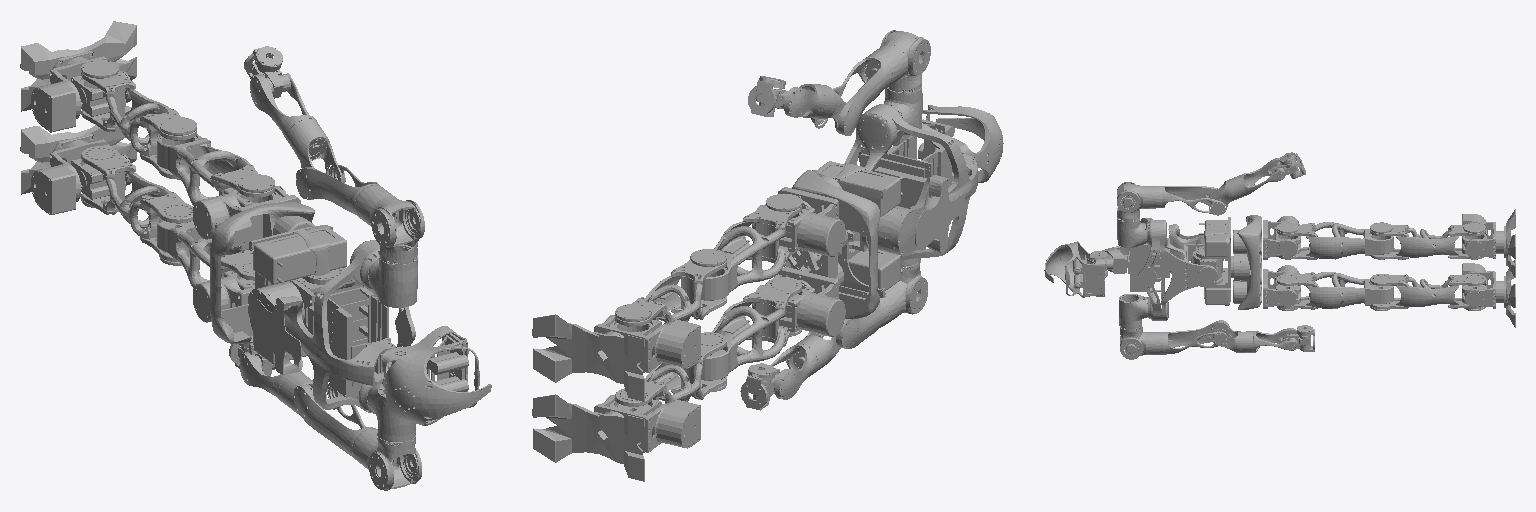
--- Facts derived from the render (not from the file) ---
3 views of the same robot in one strip: view 1: azimuth 30°, elevation 25°; view 2: azimuth 150°, elevation 25°; view 3: azimuth 270°, elevation 25° (orthographic).
Model FullBody_Simplified with 37 links and 36 joints (33 revolute, 3 fixed), rooted at L_Pelvisv15_1, posed all joints at 0.
Visible links, largest first — view 1: U_Body_1v21_1, U_Neck_2_simv5_1, L_Pelvisv15_1, LL_Knee_1v4_1, LR_Knee_1v6_1, U_Waist_2v8_1, LL_Hip_3v5_1, LL_Footv1_1, LR_Hip_3v5_1, LR_Ankle_2v3_1, LL_Ankle_2v7_1, LR_Footv2_2 (+18 smaller); view 2: U_Body_1v21_1, LR_Footv2_2, LL_Footv1_1, LL_Hip_3v5_1, LR_Hip_3v5_1, L_Pelvisv15_1, LL_Knee_1v4_1, U_Waist_2v8_1, U_Neck_2_simv5_1, LR_Knee_1v6_1, LL_Ankle_2v7_1, LR_Ankle_2v3_1 (+17 smaller); view 3: U_Body_1v21_1, LL_Hip_3v5_1, LR_Hip_3v5_1, L_Pelvisv15_1, LL_Knee_1v4_1, LR_Knee_1v6_1, U_Neck_2_simv5_1, U_Waist_2v8_1, UR_Arm_1v2_1, UL_Arm_1v1_1, LR_Hip_1v2_1, LL_Hip_1v5_1 (+14 smaller).
Link boxes in pixels (x1,y1,x2,y2): U_Body_1v21_1: (248, 240, 415, 413); U_Neck_2_simv5_1: (383, 326, 491, 425); L_Pelvisv15_1: (210, 202, 314, 343); LL_Knee_1v4_1: (81, 60, 196, 179); LR_Knee_1v6_1: (81, 146, 192, 265); U_Waist_2v8_1: (249, 225, 346, 363); LL_Hip_3v5_1: (157, 134, 274, 205); LL_Footv1_1: (20, 21, 136, 111); LR_Hip_3v5_1: (157, 217, 254, 288); LR_Ankle_2v3_1: (31, 139, 131, 214); LL_Ankle_2v7_1: (31, 56, 131, 132); LR_Footv2_2: (20, 106, 136, 194); U_Body_1v21_1: (844, 104, 977, 260); LR_Footv2_2: (532, 394, 644, 481); LL_Footv1_1: (532, 314, 644, 401); LL_Hip_3v5_1: (701, 194, 801, 300); LR_Hip_3v5_1: (701, 277, 801, 380); L_Pelvisv15_1: (786, 170, 879, 318); LL_Knee_1v4_1: (615, 249, 726, 362); U_Waist_2v8_1: (812, 161, 902, 297); U_Neck_2_simv5_1: (893, 105, 1003, 182); LR_Knee_1v6_1: (615, 332, 726, 442); LL_Ankle_2v7_1: (594, 315, 700, 372); LR_Ankle_2v3_1: (594, 395, 700, 452); U_Body_1v21_1: (1102, 218, 1223, 320); LL_Hip_3v5_1: (1277, 222, 1393, 259); LR_Hip_3v5_1: (1277, 272, 1393, 310); L_Pelvisv15_1: (1231, 215, 1261, 309); LL_Knee_1v4_1: (1370, 222, 1485, 259); LR_Knee_1v6_1: (1370, 274, 1485, 310); U_Neck_2_simv5_1: (1044, 241, 1107, 297); U_Waist_2v8_1: (1196, 217, 1230, 305); UR_Arm_1v2_1: (1165, 320, 1229, 354); UL_Arm_1v1_1: (1162, 186, 1224, 214); LR_Hip_1v2_1: (1263, 265, 1299, 308); LL_Hip_1v5_1: (1263, 216, 1299, 259).
Bounding box of the posed robot: 0.368 × 1.77 × 0.8383 m (x, y, z).
Meshes: 37 distinct files referenced, 36 mesh visuals loaded (36 binary STL); not drawn: 1 (reference not matched to a file when rendering).

URDF robot description (FullBody_Simplified):
<?xml version="1.0" ?>
<robot name="FullBody_Simplified">

<material name="silver">
  <color rgba="0.700 0.700 0.700 1.000"/>
</material>

<link name="L_Pelvisv15_1">
  <inertial>
    <origin xyz="0.07850633428100248 0.7503938158233621 0.18713690989372062" rpy="0 0 0"/>
    <mass value="10.036811625847252"/>
    <inertia ixx="1.826857" iyy="0.260223" izz="1.689356" ixy="-0.163165" iyz="-0.402271" ixz="-0.042207"/>
  </inertial>
  <visual>
    <origin xyz="0 0 0" rpy="0 0 0"/>
    <geometry>
      <mesh filename="package://meshes/L_Pelvisv15_1.stl" scale="0.001 0.001 0.001"/>
    </geometry>
    <material name="silver"/>
  </visual>
  <collision>
    <origin xyz="0 0 0" rpy="0 0 0"/>
    <geometry>
      <mesh filename="package://meshes/L_Pelvisv15_1.stl" scale="0.001 0.001 0.001"/>
    </geometry>
  </collision>
</link>

<link name="U_Waist_2v8_1">
  <inertial>
    <origin xyz="-0.0337346162481096 -0.04639529711879098 -0.0007679069985090381" rpy="0 0 0"/>
    <mass value="6.477105878848885"/>
    <inertia ixx="0.066569" iyy="0.080229" izz="0.025041" ixy="-0.000133" iyz="-0.000325" ixz="0.000159"/>
  </inertial>
  <visual>
    <origin xyz="-0.11000000000058976 -0.6805999999999996 -0.18730049999999515" rpy="0 0 0"/>
    <geometry>
      <mesh filename="package://meshes/U_Waist_2v8_1.stl" scale="0.001 0.001 0.001"/>
    </geometry>
    <material name="silver"/>
  </visual>
  <collision>
    <origin xyz="-0.11000000000058976 -0.6805999999999996 -0.18730049999999515" rpy="0 0 0"/>
    <geometry>
      <mesh filename="package://meshes/U_Waist_2v8_1.stl" scale="0.001 0.001 0.001"/>
    </geometry>
  </collision>
</link>

<link name="U_Waist_1v3_1">
  <inertial>
    <origin xyz="-0.0002659409585832606 -4.125846770230979e-06 -0.04482890885206928" rpy="0 0 0"/>
    <mass value="2.69908052620212"/>
    <inertia ixx="0.471513" iyy="0.067497" izz="0.441062" ixy="-0.077278" iyz="-0.138359" ixz="-0.025502"/>
  </inertial>
  <visual>
    <origin xyz="-0.11000000000058888 -0.5955999999999999 -0.24130049999999575" rpy="0 0 0"/>
    <geometry>
      <mesh filename="package://meshes/U_Waist_1v3_1.stl" scale="0.001 0.001 0.001"/>
    </geometry>
    <material name="silver"/>
  </visual>
  <collision>
    <origin xyz="-0.11000000000058888 -0.5955999999999999 -0.24130049999999575" rpy="0 0 0"/>
    <geometry>
      <mesh filename="package://meshes/U_Waist_1v3_1.stl" scale="0.001 0.001 0.001"/>
    </geometry>
  </collision>
</link>

<link name="U_Body_1v21_1">
  <inertial>
    <origin xyz="0.015155259714987449 -0.15771637872996064 -0.0012004300231659437" rpy="0 0 0"/>
    <mass value="13.434139763717132"/>
    <inertia ixx="1.802919" iyy="0.465399" izz="1.581973" ixy="-0.128737" iyz="-0.539786" ixz="-0.071474"/>
  </inertial>
  <visual>
    <origin xyz="-0.04400000000058896 -0.5955999999999999 -0.18730049999999573" rpy="0 0 0"/>
    <geometry>
      <mesh filename="package://meshes/U_Body_1v21_1.stl" scale="0.001 0.001 0.001"/>
    </geometry>
    <material name="silver"/>
  </visual>
  <collision>
    <origin xyz="-0.04400000000058896 -0.5955999999999999 -0.18730049999999573" rpy="0 0 0"/>
    <geometry>
      <mesh filename="package://meshes/U_Body_1v21_1.stl" scale="0.001 0.001 0.001"/>
    </geometry>
  </collision>
</link>

<link name="UL_Shoulder_1v3_1">
  <inertial>
    <origin xyz="-4.8748773014778424e-05 -0.0600535587620909 0.003562519143427867" rpy="0 0 0"/>
    <mass value="0.4784016701329476"/>
    <inertia ixx="0.239649" iyy="0.153624" izz="0.127989" ixy="-0.046121" iyz="-0.118057" ixz="-0.051461"/>
  </inertial>
  <visual>
    <origin xyz="-0.13300000000094261 -0.36524750292855984 -0.3370001228884733" rpy="0 0 0"/>
    <geometry>
      <mesh filename="package://meshes/UL_Shoulder_1v3_1.stl" scale="0.001 0.001 0.001"/>
    </geometry>
    <material name="silver"/>
  </visual>
  <collision>
    <origin xyz="-0.13300000000094261 -0.36524750292855984 -0.3370001228884733" rpy="0 0 0"/>
    <geometry>
      <mesh filename="package://meshes/UL_Shoulder_1v3_1.stl" scale="0.001 0.001 0.001"/>
    </geometry>
  </collision>
</link>

<link name="UR_Shoulder_1v3_1">
  <inertial>
    <origin xyz="4.874877301425107e-05 -0.059877374991490095 -0.005815619207582948" rpy="0 0 0"/>
    <mass value="0.47840167013294754"/>
    <inertia ixx="0.112616" iyy="0.022449" izz="0.132188" ixy="-0.04705" iyz="-0.008306" ixz="-0.003513"/>
  </inertial>
  <visual>
    <origin xyz="-0.1330000000009486 -0.37103276923898365 -0.029054460971118613" rpy="0 0 0"/>
    <geometry>
      <mesh filename="package://meshes/UR_Shoulder_1v3_1.stl" scale="0.001 0.001 0.001"/>
    </geometry>
    <material name="silver"/>
  </visual>
  <collision>
    <origin xyz="-0.1330000000009486 -0.37103276923898365 -0.029054460971118613" rpy="0 0 0"/>
    <geometry>
      <mesh filename="package://meshes/UR_Shoulder_1v3_1.stl" scale="0.001 0.001 0.001"/>
    </geometry>
  </collision>
</link>

<link name="UR_Shoulder_2v2_1">
  <inertial>
    <origin xyz="-0.0011896266413215784 0.0010390104749413154 -0.05640801893102957" rpy="0 0 0"/>
    <mass value="0.23812084762668878"/>
    <inertia ixx="0.024179" iyy="0.006403" izz="0.026767" ixy="-0.009409" iyz="0.004487" ixz="0.001878"/>
  </inertial>
  <visual>
    <origin xyz="-0.13300000000094875 -0.3066847483187157 0.0062604396183596565" rpy="0 0 0"/>
    <geometry>
      <mesh filename="package://meshes/UR_Shoulder_2v2_1.stl" scale="0.001 0.001 0.001"/>
    </geometry>
    <material name="silver"/>
  </visual>
  <collision>
    <origin xyz="-0.13300000000094875 -0.3066847483187157 0.0062604396183596565" rpy="0 0 0"/>
    <geometry>
      <mesh filename="package://meshes/UR_Shoulder_2v2_1.stl" scale="0.001 0.001 0.001"/>
    </geometry>
  </collision>
</link>

<link name="UR_Shoulder_3v2_1">
  <inertial>
    <origin xyz="-0.03031024672003585 0.04859132145441042 0.001152922799551509" rpy="0 0 0"/>
    <mass value="0.56178745084814"/>
    <inertia ixx="0.331765" iyy="0.077312" izz="0.340575" ixy="-0.109828" iyz="0.097492" ixz="0.037023"/>
  </inertial>
  <visual>
    <origin xyz="-0.16590000000095106 -0.3088448315190362 0.12124015104853975" rpy="0 0 0"/>
    <geometry>
      <mesh filename="package://meshes/UR_Shoulder_3v2_1.stl" scale="0.001 0.001 0.001"/>
    </geometry>
    <material name="silver"/>
  </visual>
  <collision>
    <origin xyz="-0.16590000000095106 -0.3088448315190362 0.12124015104853975" rpy="0 0 0"/>
    <geometry>
      <mesh filename="package://meshes/UR_Shoulder_3v2_1.stl" scale="0.001 0.001 0.001"/>
    </geometry>
  </collision>
</link>

<link name="UR_Arm_1v2_1">
  <inertial>
    <origin xyz="-0.019862841377670776 0.11172176408902107 0.013973801200149766" rpy="0 0 0"/>
    <mass value="0.5789025929463171"/>
    <inertia ixx="0.006256" iyy="0.001146" izz="0.006561" ixy="-0.000114" iyz="-0.000148" ixz="0.000149"/>
  </inertial>
  <visual>
    <origin xyz="-0.13300000000095033 -0.4369222318164831 0.11883400619670591" rpy="0 0 0"/>
    <geometry>
      <mesh filename="package://meshes/UR_Arm_1v2_1.stl" scale="0.001 0.001 0.001"/>
    </geometry>
    <material name="silver"/>
  </visual>
  <collision>
    <origin xyz="-0.13300000000095033 -0.4369222318164831 0.11883400619670591" rpy="0 0 0"/>
    <geometry>
      <mesh filename="package://meshes/UR_Arm_1v2_1.stl" scale="0.001 0.001 0.001"/>
    </geometry>
  </collision>
</link>

<link name="UR_Arm_2v6_1">
  <inertial>
    <origin xyz="-0.03049076949479987 0.05201895481737917 -0.01669934810431163" rpy="0 0 0"/>
    <mass value="0.3152819939464439"/>
    <inertia ixx="0.800277" iyy="0.046391" izz="0.812801" ixy="-0.14939" iyz="0.112382" ixz="0.021291"/>
  </inertial>
  <visual>
    <origin xyz="-0.16400000000095022 -0.6432752540950658 0.08245159016238089" rpy="0 0 0"/>
    <geometry>
      <mesh filename="package://meshes/UR_Arm_2v6_1.stl" scale="0.001 0.001 0.001"/>
    </geometry>
    <material name="silver"/>
  </visual>
  <collision>
    <origin xyz="-0.16400000000095022 -0.6432752540950658 0.08245159016238089" rpy="0 0 0"/>
    <geometry>
      <mesh filename="package://meshes/UR_Arm_2v6_1.stl" scale="0.001 0.001 0.001"/>
    </geometry>
  </collision>
</link>

<link name="UR_Arm_3v3_1">
  <inertial>
    <origin xyz="-0.016384028005943727 0.07698230687582608 0.0015476984755121437" rpy="0 0 0"/>
    <mass value="0.40861586219416696"/>
    <inertia ixx="0.002693" iyy="0.000575" izz="0.002948" ixy="2.6e-05" iyz="0.000165" ixz="-4e-06"/>
  </inertial>
  <visual>
    <origin xyz="-0.1330000000009512 -0.7688636595975273 0.11259793991404056" rpy="0 0 0"/>
    <geometry>
      <mesh filename="package://meshes/UR_Arm_3v3_1.stl" scale="0.001 0.001 0.001"/>
    </geometry>
    <material name="silver"/>
  </visual>
  <collision>
    <origin xyz="-0.1330000000009512 -0.7688636595975273 0.11259793991404056" rpy="0 0 0"/>
    <geometry>
      <mesh filename="package://meshes/UR_Arm_3v3_1.stl" scale="0.001 0.001 0.001"/>
    </geometry>
  </collision>
</link>

<link name="UL_Shoulder_2v3_1">
  <inertial>
    <origin xyz="-0.0011896266413236878 -0.0010804099433366354 0.056407241174085576" rpy="0 0 0"/>
    <mass value="0.4701009156097212"/>
    <inertia ixx="0.0013" iyy="0.001461" izz="0.00077" ixy="-1e-06" iyz="1.3e-05" ixz="3.8e-05"/>
  </inertial>
  <visual>
    <origin xyz="-0.13300000000094164 -0.2996184587538408 -0.36987319029498056" rpy="0 0 0"/>
    <geometry>
      <mesh filename="package://meshes/UL_Shoulder_2v3_1.stl" scale="0.001 0.001 0.001"/>
    </geometry>
    <material name="silver"/>
  </visual>
  <collision>
    <origin xyz="-0.13300000000094164 -0.2996184587538408 -0.36987319029498056" rpy="0 0 0"/>
    <geometry>
      <mesh filename="package://meshes/UL_Shoulder_2v3_1.stl" scale="0.001 0.001 0.001"/>
    </geometry>
  </collision>
</link>

<link name="UL_Shoulder_3v3_1">
  <inertial>
    <origin xyz="-0.034710246720033366 0.04859132145440942 0.0011529227995509261" rpy="0 0 0"/>
    <mass value="1.6983659250719216"/>
    <inertia ixx="0.413132" iyy="0.292098" izz="0.165365" ixy="-0.05299" iyz="-0.191232" ixz="-0.074887"/>
  </inertial>
  <visual>
    <origin xyz="-0.17030000000093926 -0.2974583755535203 -0.4848529017251625" rpy="0 0 0"/>
    <geometry>
      <mesh filename="package://meshes/UL_Shoulder_3v3_1.stl" scale="0.001 0.001 0.001"/>
    </geometry>
    <material name="silver"/>
  </visual>
  <collision>
    <origin xyz="-0.17030000000093926 -0.2974583755535203 -0.4848529017251625" rpy="0 0 0"/>
    <geometry>
      <mesh filename="package://meshes/UL_Shoulder_3v3_1.stl" scale="0.001 0.001 0.001"/>
    </geometry>
  </collision>
</link>

<link name="UR_Wrist_1v6_1">
  <inertial>
    <origin xyz="-0.038258503492373336 0.02317003530234485 0.00521035822356096" rpy="0 0 0"/>
    <mass value="0.4704162631935058"/>
    <inertia ixx="0.277937" iyy="0.009314" izz="0.279908" ixy="-0.038558" iyz="0.03049" ixz="0.004301"/>
  </inertial>
  <visual>
    <origin xyz="-0.16999999947643094 -0.9126357923807621 0.10976992131012552" rpy="0 0 0"/>
    <geometry>
      <mesh filename="package://meshes/UR_Wrist_1v6_1.stl" scale="0.001 0.001 0.001"/>
    </geometry>
    <material name="silver"/>
  </visual>
  <collision>
    <origin xyz="-0.16999999947643094 -0.9126357923807621 0.10976992131012552" rpy="0 0 0"/>
    <geometry>
      <mesh filename="package://meshes/UR_Wrist_1v6_1.stl" scale="0.001 0.001 0.001"/>
    </geometry>
  </collision>
</link>

<link name="UR_Wrist_2v3_1">
  <inertial>
    <origin xyz="-8.812031659921615e-11 0.020573537806204523 0.03199453722915953" rpy="0 0 0"/>
    <mass value="0.12362354927744214"/>
    <inertia ixx="0.000144" iyy="0.00014" izz="8.2e-05" ixy="-0.0" iyz="7e-06" ixz="0.0"/>
  </inertial>
  <visual>
    <origin xyz="-0.13299999947642951 -0.961216512639082 0.13882011268957636" rpy="0 0 0"/>
    <geometry>
      <mesh filename="package://meshes/UR_Wrist_2v3_1.stl" scale="0.001 0.001 0.001"/>
    </geometry>
    <material name="silver"/>
  </visual>
  <collision>
    <origin xyz="-0.13299999947642951 -0.961216512639082 0.13882011268957636" rpy="0 0 0"/>
    <geometry>
      <mesh filename="package://meshes/UR_Wrist_2v3_1.stl" scale="0.001 0.001 0.001"/>
    </geometry>
  </collision>
</link>

<link name="UR_Hand_1v3_1">
  <inertial>
    <origin xyz="0.02002554203355407 0.06405861272419533 0.041990729835441554" rpy="0 0 0"/>
    <mass value="0.23815245620329029"/>
    <inertia ixx="0.089352" iyy="0.002416" izz="0.089909" ixy="-0.011173" iyz="0.006815" ixz="0.000846"/>
  </inertial>
  <visual>
    <origin xyz="-0.11532232994676704 -0.9984713362603825 0.12576257365892807" rpy="0 0 0"/>
    <geometry>
      <mesh filename="package://meshes/UR_Hand_1v3_1.stl" scale="0.001 0.001 0.001"/>
    </geometry>
    <material name="silver"/>
  </visual>
  <collision>
    <origin xyz="-0.11532232994676704 -0.9984713362603825 0.12576257365892807" rpy="0 0 0"/>
    <geometry>
      <mesh filename="package://meshes/UR_Hand_1v3_1.stl" scale="0.001 0.001 0.001"/>
    </geometry>
  </collision>
</link>

<link name="U_Neck_1v4_1">
  <inertial>
    <origin xyz="-0.0003721026714717107 -0.02571683694961044 -0.002658220059857608" rpy="0 0 0"/>
    <mass value="0.28464806125456393"/>
    <inertia ixx="0.008296" iyy="0.004625" izz="0.00509" ixy="-0.001668" iyz="-0.004023" ixz="-0.001555"/>
  </inertial>
  <visual>
    <origin xyz="-0.07400000000094507 -0.21616695228040253 -0.18017222543893752" rpy="0 0 0"/>
    <geometry>
      <mesh filename="package://meshes/U_Neck_1v4_1.stl" scale="0.001 0.001 0.001"/>
    </geometry>
    <material name="silver"/>
  </visual>
  <collision>
    <origin xyz="-0.07400000000094507 -0.21616695228040253 -0.18017222543893752" rpy="0 0 0"/>
    <geometry>
      <mesh filename="package://meshes/U_Neck_1v4_1.stl" scale="0.001 0.001 0.001"/>
    </geometry>
  </collision>
</link>

<link name="LL_Hip_1v5_1">
  <inertial>
    <origin xyz="-0.06917669367320745 0.06802628174919578 1.0686348050903405e-06" rpy="0 0 0"/>
    <mass value="2.679330855492574"/>
    <inertia ixx="0.006034" iyy="0.008699" izz="0.01107" ixy="0.002414" iyz="-0.0" ixz="0.0"/>
  </inertial>
  <visual>
    <origin xyz="-0.11000000000059164 -0.8109000000000003 -0.28980049999999435" rpy="0 0 0"/>
    <geometry>
      <mesh filename="package://meshes/LL_Hip_1v5_1.stl" scale="0.001 0.001 0.001"/>
    </geometry>
    <material name="silver"/>
  </visual>
  <collision>
    <origin xyz="-0.11000000000059164 -0.8109000000000003 -0.28980049999999435" rpy="0 0 0"/>
    <geometry>
      <mesh filename="package://meshes/LL_Hip_1v5_1.stl" scale="0.001 0.001 0.001"/>
    </geometry>
  </collision>
</link>

<link name="LL_Hip_2v4_1">
  <inertial>
    <origin xyz="0.049388121206438505 -6.441357592079644e-05 -0.0024544959884552076" rpy="0 0 0"/>
    <mass value="2.6278046422077392"/>
    <inertia ixx="0.003176" iyy="0.003391" izz="0.003653" ixy="4e-06" iyz="5e-06" ixz="1.7e-05"/>
  </inertial>
  <visual>
    <origin xyz="-0.05800000000059206 -0.8959000000000006 -0.28980049999999424" rpy="0 0 0"/>
    <geometry>
      <mesh filename="package://meshes/LL_Hip_2v4_1.stl" scale="0.001 0.001 0.001"/>
    </geometry>
    <material name="silver"/>
  </visual>
  <collision>
    <origin xyz="-0.05800000000059206 -0.8959000000000006 -0.28980049999999424" rpy="0 0 0"/>
    <geometry>
      <mesh filename="package://meshes/LL_Hip_2v4_1.stl" scale="0.001 0.001 0.001"/>
    </geometry>
  </collision>
</link>

<link name="LL_Hip_3v5_1">
  <inertial>
    <origin xyz="-0.0002922148222426202 0.24721488423935345 0.04472195154747177" rpy="0 0 0"/>
    <mass value="4.748394171510706"/>
    <inertia ixx="1.327843" iyy="0.096522" izz="1.263205" ixy="-0.113283" iyz="-0.296535" ixz="-0.02857"/>
  </inertial>
  <visual>
    <origin xyz="-0.11000000000059178 -0.8959 -0.24580049999999382" rpy="0 0 0"/>
    <geometry>
      <mesh filename="package://meshes/LL_Hip_3v5_1.stl" scale="0.001 0.001 0.001"/>
    </geometry>
    <material name="silver"/>
  </visual>
  <collision>
    <origin xyz="-0.11000000000059178 -0.8959 -0.24580049999999382" rpy="0 0 0"/>
    <geometry>
      <mesh filename="package://meshes/LL_Hip_3v5_1.stl" scale="0.001 0.001 0.001"/>
    </geometry>
  </collision>
</link>

<link name="LL_Knee_1v4_1">
  <inertial>
    <origin xyz="0.007025018161256974 0.1684614112314573 0.04906374764128471" rpy="0 0 0"/>
    <mass value="2.1717822655770376"/>
    <inertia ixx="0.945932" iyy="0.049545" izz="0.912819" ixy="-0.072514" iyz="-0.182982" ixz="-0.015116"/>
  </inertial>
  <visual>
    <origin xyz="-0.10998795286076081 -1.2458999997926639 -0.24580049999998874" rpy="0 0 0"/>
    <geometry>
      <mesh filename="package://meshes/LL_Knee_1v4_1.stl" scale="0.001 0.001 0.001"/>
    </geometry>
    <material name="silver"/>
  </visual>
  <collision>
    <origin xyz="-0.10998795286076081 -1.2458999997926639 -0.24580049999998874" rpy="0 0 0"/>
    <geometry>
      <mesh filename="package://meshes/LL_Knee_1v4_1.stl" scale="0.001 0.001 0.001"/>
    </geometry>
  </collision>
</link>

<link name="LL_Ankle_1v4_1">
  <inertial>
    <origin xyz="-0.0022748541511047188 5.943449598877493e-05 0.043395362769816065" rpy="0 0 0"/>
    <mass value="2.8327660907109085"/>
    <inertia ixx="0.003548" iyy="0.00397" izz="0.004046" ixy="-2e-06" iyz="-5e-06" ixz="4e-06"/>
  </inertial>
  <visual>
    <origin xyz="-0.10998795286076447 -1.595899999792663 -0.24580049999999523" rpy="0 0 0"/>
    <geometry>
      <mesh filename="package://meshes/LL_Ankle_1v4_1.stl" scale="0.001 0.001 0.001"/>
    </geometry>
    <material name="silver"/>
  </visual>
  <collision>
    <origin xyz="-0.10998795286076447 -1.595899999792663 -0.24580049999999523" rpy="0 0 0"/>
    <geometry>
      <mesh filename="package://meshes/LL_Ankle_1v4_1.stl" scale="0.001 0.001 0.001"/>
    </geometry>
  </collision>
</link>

<link name="LL_Ankle_2v7_1">
  <inertial>
    <origin xyz="-0.01909895779530666 0.009513815344076582 9.914044236636332e-05" rpy="0 0 0"/>
    <mass value="1.9346899212969202"/>
    <inertia ixx="0.442548" iyy="0.021284" izz="0.4336" ixy="-0.011264" iyz="-0.076694" ixz="-0.001671"/>
  </inertial>
  <visual>
    <origin xyz="-0.05448795286076483 -1.5958999997926637 -0.28980049999999574" rpy="0 0 0"/>
    <geometry>
      <mesh filename="package://meshes/LL_Ankle_2v7_1.stl" scale="0.001 0.001 0.001"/>
    </geometry>
    <material name="silver"/>
  </visual>
  <collision>
    <origin xyz="-0.05448795286076483 -1.5958999997926637 -0.28980049999999574" rpy="0 0 0"/>
    <geometry>
      <mesh filename="package://meshes/LL_Ankle_2v7_1.stl" scale="0.001 0.001 0.001"/>
    </geometry>
  </collision>
</link>

<link name="LR_Hip_1v2_1">
  <inertial>
    <origin xyz="-0.06917669367320725 0.06802628174919567 1.0686348050070738e-06" rpy="0 0 0"/>
    <mass value="2.679330855492574"/>
    <inertia ixx="0.006034" iyy="0.008699" izz="0.01107" ixy="0.002414" iyz="-0.0" ixz="0.0"/>
  </inertial>
  <visual>
    <origin xyz="-0.11000000000058999 -0.8108999999999992 -0.08480049999999428" rpy="0 0 0"/>
    <geometry>
      <mesh filename="package://meshes/LR_Hip_1v2_1.stl" scale="0.001 0.001 0.001"/>
    </geometry>
    <material name="silver"/>
  </visual>
  <collision>
    <origin xyz="-0.11000000000058999 -0.8108999999999992 -0.08480049999999428" rpy="0 0 0"/>
    <geometry>
      <mesh filename="package://meshes/LR_Hip_1v2_1.stl" scale="0.001 0.001 0.001"/>
    </geometry>
  </collision>
</link>

<link name="LR_Hip_2v3_1">
  <inertial>
    <origin xyz="0.04938812120643867 6.44135759201303e-05 0.0024544959884545137" rpy="0 0 0"/>
    <mass value="2.6278046422077392"/>
    <inertia ixx="0.003176" iyy="0.003391" izz="0.003653" ixy="-4e-06" iyz="5e-06" ixz="-1.7e-05"/>
  </inertial>
  <visual>
    <origin xyz="-0.0580000000005907 -0.8958999999999996 -0.08480049999999414" rpy="0 0 0"/>
    <geometry>
      <mesh filename="package://meshes/LR_Hip_2v3_1.stl" scale="0.001 0.001 0.001"/>
    </geometry>
    <material name="silver"/>
  </visual>
  <collision>
    <origin xyz="-0.0580000000005907 -0.8958999999999996 -0.08480049999999414" rpy="0 0 0"/>
    <geometry>
      <mesh filename="package://meshes/LR_Hip_2v3_1.stl" scale="0.001 0.001 0.001"/>
    </geometry>
  </collision>
</link>

<link name="LR_Hip_3v5_1">
  <inertial>
    <origin xyz="-0.00029967114549291074 0.24713811091902094 -0.04466562217329653" rpy="0 0 0"/>
    <mass value="4.752611894817338"/>
    <inertia ixx="1.258437" iyy="0.027122" izz="1.2632" ixy="-0.113274" iyz="-0.087855" ixz="-0.008244"/>
  </inertial>
  <visual>
    <origin xyz="-0.11000000000059107 -0.8958999999999995 -0.12880049999999374" rpy="0 0 0"/>
    <geometry>
      <mesh filename="package://meshes/LR_Hip_3v5_1.stl" scale="0.001 0.001 0.001"/>
    </geometry>
    <material name="silver"/>
  </visual>
  <collision>
    <origin xyz="-0.11000000000059107 -0.8958999999999995 -0.12880049999999374" rpy="0 0 0"/>
    <geometry>
      <mesh filename="package://meshes/LR_Hip_3v5_1.stl" scale="0.001 0.001 0.001"/>
    </geometry>
  </collision>
</link>

<link name="LR_Knee_1v6_1">
  <inertial>
    <origin xyz="0.007017904177469975 0.1686450977556493 -0.04540833902995431" rpy="0 0 0"/>
    <mass value="2.1744274951371314"/>
    <inertia ixx="0.911033" iyy="0.014329" izz="0.913137" ixy="-0.072515" iyz="-0.052109" ixz="-0.004289"/>
  </inertial>
  <visual>
    <origin xyz="-0.10998735043189699 -1.2458999997926623 -0.12880049999999182" rpy="0 0 0"/>
    <geometry>
      <mesh filename="package://meshes/LR_Knee_1v6_1.stl" scale="0.001 0.001 0.001"/>
    </geometry>
    <material name="silver"/>
  </visual>
  <collision>
    <origin xyz="-0.10998735043189699 -1.2458999997926623 -0.12880049999999182" rpy="0 0 0"/>
    <geometry>
      <mesh filename="package://meshes/LR_Knee_1v6_1.stl" scale="0.001 0.001 0.001"/>
    </geometry>
  </collision>
</link>

<link name="LR_Ankle_1v2_1">
  <inertial>
    <origin xyz="-0.002274854151280453 -5.837972197708652e-05 -0.04339536276981598" rpy="0 0 0"/>
    <mass value="2.8327660907109085"/>
    <inertia ixx="0.003548" iyy="0.00397" izz="0.004046" ixy="2e-06" iyz="-5e-06" ixz="-4e-06"/>
  </inertial>
  <visual>
    <origin xyz="-0.10998735043190036 -1.5958999997926586 -0.12880049999998555" rpy="0 0 0"/>
    <geometry>
      <mesh filename="package://meshes/LR_Ankle_1v2_1.stl" scale="0.001 0.001 0.001"/>
    </geometry>
    <material name="silver"/>
  </visual>
  <collision>
    <origin xyz="-0.10998735043190036 -1.5958999997926586 -0.12880049999998555" rpy="0 0 0"/>
    <geometry>
      <mesh filename="package://meshes/LR_Ankle_1v2_1.stl" scale="0.001 0.001 0.001"/>
    </geometry>
  </collision>
</link>

<link name="LR_Ankle_2v3_1">
  <inertial>
    <origin xyz="-0.019046655278615883 0.009558695795510719 9.967099675126101e-05" rpy="0 0 0"/>
    <mass value="1.924891327220748"/>
    <inertia ixx="0.429908" iyy="0.008618" izz="0.433619" ixy="-0.011277" iyz="-0.022457" ixz="-0.000476"/>
  </inertial>
  <visual>
    <origin xyz="-0.054487350431900075 -1.5958999997926588 -0.08480049999998583" rpy="0 0 0"/>
    <geometry>
      <mesh filename="package://meshes/LR_Ankle_2v3_1.stl" scale="0.001 0.001 0.001"/>
    </geometry>
    <material name="silver"/>
  </visual>
  <collision>
    <origin xyz="-0.054487350431900075 -1.5958999997926588 -0.08480049999998583" rpy="0 0 0"/>
    <geometry>
      <mesh filename="package://meshes/LR_Ankle_2v3_1.stl" scale="0.001 0.001 0.001"/>
    </geometry>
  </collision>
</link>

<link name="U_Neck_2_simv5_1">
  <inertial>
    <origin xyz="0.03715460305593435 -0.0700612794935439 -0.03961090437778228" rpy="0 0 0"/>
    <mass value="1.4175125769096264"/>
    <inertia ixx="0.007912" iyy="0.010151" izz="0.012067" ixy="-0.002559" iyz="-1.7e-05" ixz="-0.000142"/>
  </inertial>
  <visual>
    <origin xyz="-0.07400000000094396 -0.18796742893829715 -0.21714906796609365" rpy="0 0 0"/>
    <geometry>
      <mesh filename="package://meshes/U_Neck_2_simv5_1.stl" scale="0.001 0.001 0.001"/>
    </geometry>
    <material name="silver"/>
  </visual>
  <collision>
    <origin xyz="-0.07400000000094396 -0.18796742893829715 -0.21714906796609365" rpy="0 0 0"/>
    <geometry>
      <mesh filename="package://meshes/U_Neck_2_simv5_1.stl" scale="0.001 0.001 0.001"/>
    </geometry>
  </collision>
</link>

<link name="LR_Footv2_2">
  <inertial>
    <origin xyz="0.014369982408761778 0.040634094044728064 8.110878130515586e-05" rpy="0 0 0"/>
    <mass value="2.350132620082288"/>
    <inertia ixx="0.003415" iyy="0.014323" izz="0.012634" ixy="-0.000535" iyz="-2e-06" ixz="-1.1e-05"/>
  </inertial>
  <visual>
    <origin xyz="-0.1116873504319005 -1.6758999997926585 -0.08480049999998492" rpy="0 0 0"/>
    <geometry>
      <mesh filename="package://meshes/LR_Footv2_2.stl" scale="0.001 0.001 0.001"/>
    </geometry>
    <material name="silver"/>
  </visual>
  <collision>
    <origin xyz="-0.1116873504319005 -1.6758999997926585 -0.08480049999998492" rpy="0 0 0"/>
    <geometry>
      <mesh filename="package://meshes/LR_Footv2_2.stl" scale="0.001 0.001 0.001"/>
    </geometry>
  </collision>
</link>

<link name="LL_Footv1_1">
  <inertial>
    <origin xyz="0.014369982408761556 0.04063409404472873 8.110878130740407e-05" rpy="0 0 0"/>
    <mass value="2.350132620082288"/>
    <inertia ixx="0.003415" iyy="0.014323" izz="0.012634" ixy="-0.000535" iyz="-2e-06" ixz="-1.1e-05"/>
  </inertial>
  <visual>
    <origin xyz="-0.1116879528607731 -1.6758999997926634 -0.2898004999999955" rpy="0 0 0"/>
    <geometry>
      <mesh filename="package://meshes/LL_Footv1_1.stl" scale="0.001 0.001 0.001"/>
    </geometry>
    <material name="silver"/>
  </visual>
  <collision>
    <origin xyz="-0.1116879528607731 -1.6758999997926634 -0.2898004999999955" rpy="0 0 0"/>
    <geometry>
      <mesh filename="package://meshes/LL_Footv1_1.stl" scale="0.001 0.001 0.001"/>
    </geometry>
  </collision>
</link>

<link name="UL_Arm_1v1_1">
  <inertial>
    <origin xyz="-0.01986070587217044 0.1121579447537443 -0.009766186979615399" rpy="0 0 0"/>
    <mass value="0.5866932106262186"/>
    <inertia ixx="0.003809" iyy="0.000919" izz="0.00414" ixy="0.000375" iyz="0.000479" ixz="-4.2e-05"/>
  </inertial>
  <visual>
    <origin xyz="-0.13300000000093776 -0.425535775850965 -0.4872590465769972" rpy="0 0 0"/>
    <geometry>
      <mesh filename="package://meshes/UL_Arm_1v1_1.stl" scale="0.001 0.001 0.001"/>
    </geometry>
    <material name="silver"/>
  </visual>
  <collision>
    <origin xyz="-0.13300000000093776 -0.425535775850965 -0.4872590465769972" rpy="0 0 0"/>
    <geometry>
      <mesh filename="package://meshes/UL_Arm_1v1_1.stl" scale="0.001 0.001 0.001"/>
    </geometry>
  </collision>
</link>

<link name="UL_Arm_3v1_1">
  <inertial>
    <origin xyz="-0.01638402800594352 0.0705752156804712 0.03078655537049846" rpy="0 0 0"/>
    <mass value="0.4103279308573677"/>
    <inertia ixx="0.001447" iyy="0.000738" izz="0.001492" ixy="0.000166" iyz="-0.000447" ixz="0.000105"/>
  </inertial>
  <visual>
    <origin xyz="-0.13430000000093772 -0.7346767661323085 -0.538436287147996" rpy="0 0 0"/>
    <geometry>
      <mesh filename="package://meshes/UL_Arm_3v1_1.stl" scale="0.001 0.001 0.001"/>
    </geometry>
    <material name="silver"/>
  </visual>
  <collision>
    <origin xyz="-0.13430000000093772 -0.7346767661323085 -0.538436287147996" rpy="0 0 0"/>
    <geometry>
      <mesh filename="package://meshes/UL_Arm_3v1_1.stl" scale="0.001 0.001 0.001"/>
    </geometry>
  </collision>
</link>

<link name="UL_Wrist_1v1_1">
  <inertial>
    <origin xyz="-0.03425367007792576 0.02197814198113468 0.01141120901767767" rpy="0 0 0"/>
    <mass value="0.49848861390960736"/>
    <inertia ixx="0.330274" iyy="0.110833" izz="0.230629" ixy="-0.034719" iyz="-0.153656" ixz="-0.023722"/>
  </inertial>
  <visual>
    <origin xyz="-0.17129999947641766 -0.8664735600446644 -0.5959518947204093" rpy="0 0 0"/>
    <geometry>
      <mesh filename="package://meshes/UL_Wrist_1v1_1.stl" scale="0.001 0.001 0.001"/>
    </geometry>
    <material name="silver"/>
  </visual>
  <collision>
    <origin xyz="-0.17129999947641766 -0.8664735600446644 -0.5959518947204093" rpy="0 0 0"/>
    <geometry>
      <mesh filename="package://meshes/UL_Wrist_1v1_1.stl" scale="0.001 0.001 0.001"/>
    </geometry>
  </collision>
</link>

<link name="UL_Wrist_2v1_1">
  <inertial>
    <origin xyz="1.0526821081491278e-10 0.00616753322677277 0.0375403691154923" rpy="0 0 0"/>
    <mass value="0.1188082072163882"/>
    <inertia ixx="0.000138" iyy="0.000121" izz="9.2e-05" ixy="0.0" iyz="2.5e-05" ixz="-0.0"/>
  </inertial>
  <visual>
    <origin xyz="-0.1417999994764068 -0.9252939541819925 -0.582669905655134" rpy="0 0 0"/>
    <geometry>
      <mesh filename="package://meshes/UL_Wrist_2v1_1.stl" scale="0.001 0.001 0.001"/>
    </geometry>
    <material name="silver"/>
  </visual>
  <collision>
    <origin xyz="-0.1417999994764068 -0.9252939541819925 -0.582669905655134" rpy="0 0 0"/>
    <geometry>
      <mesh filename="package://meshes/UL_Wrist_2v1_1.stl" scale="0.001 0.001 0.001"/>
    </geometry>
  </collision>
</link>

<link name="UL_Arm_2v1_1">
  <inertial>
    <origin xyz="-0.029190769494796293 0.04031133921565788 0.0368747947717567" rpy="0 0 0"/>
    <mass value="1.1202659214049093"/>
    <inertia ixx="0.568856" iyy="0.215897" izz="0.383739" ixy="-0.073033" iyz="-0.271018" ixz="-0.05373"/>
  </inertial>
  <visual>
    <origin xyz="-0.16400000000093695 -0.6331097147210338 -0.4586529300638273" rpy="0 0 0"/>
    <geometry>
      <mesh filename="package://meshes/UL_Arm_2v1_1.stl" scale="0.001 0.001 0.001"/>
    </geometry>
    <material name="silver"/>
  </visual>
  <collision>
    <origin xyz="-0.16400000000093695 -0.6331097147210338 -0.4586529300638273" rpy="0 0 0"/>
    <geometry>
      <mesh filename="package://meshes/UL_Arm_2v1_1.stl" scale="0.001 0.001 0.001"/>
    </geometry>
  </collision>
</link>

<joint name="Revolute48" type="revolute">
  <origin xyz="0.11000000000058976 0.6805999999999996 0.18730049999999515" rpy="0 0 0"/>
  <parent link="L_Pelvisv15_1"/>
  <child link="U_Waist_2v8_1"/>
  <axis xyz="8.135850272080543e-15 1.0000000000000007 -5.881300216741402e-15"/>
  <limit upper="3.14159" lower="-3.14159" effort="100" velocity="100"/>
</joint>

<joint name="Revolute49" type="revolute">
  <origin xyz="-8.881784197001252e-16 -0.08499999999999974 0.0540000000000006" rpy="0 0 0"/>
  <parent link="U_Waist_2v8_1"/>
  <child link="U_Waist_1v3_1"/>
  <axis xyz="1.4360629127321063e-15 -5.873644089593395e-15 -1.0000000000000002"/>
  <limit upper="3.14159" lower="-3.14159" effort="100" velocity="100"/>
</joint>

<joint name="Revolute51" type="revolute">
  <origin xyz="-0.06599999999999992 0.0 -0.05400000000000002" rpy="0 0 0"/>
  <parent link="U_Waist_1v3_1"/>
  <child link="U_Body_1v21_1"/>
  <axis xyz="1.0000000000000004 -7.95667976999021e-15 1.356581037105798e-15"/>
  <limit upper="3.14159" lower="-3.14159" effort="100" velocity="100"/>
</joint>

<joint name="Revolute87" type="revolute">
  <origin xyz="0.08900000000035366 -0.23035249707144007 0.14969962288847757" rpy="0 0 0"/>
  <parent link="U_Body_1v21_1"/>
  <child link="UL_Shoulder_1v3_1"/>
  <axis xyz="2.774592544632578e-15 0.9998235776537481 0.018783332176700435"/>
  <limit upper="3.14159" lower="-3.14159" effort="100" velocity="100"/>
</joint>

<joint name="Revolute53" type="revolute">
  <origin xyz="0.08900000000035965 -0.22456723076101626 -0.15824603902887713" rpy="0 0 0"/>
  <parent link="U_Body_1v21_1"/>
  <child link="UR_Shoulder_1v3_1"/>
  <axis xyz="2.800832321714712e-15 0.9998235776537475 0.018783332176700362"/>
  <limit upper="3.14159" lower="-3.14159" effort="100" velocity="100"/>
</joint>

<joint name="Revolute54" type="revolute">
  <origin xyz="1.3877787807814457e-16 -0.06434802092026792 -0.03531490058947827" rpy="0 0 0"/>
  <parent link="UR_Shoulder_1v3_1"/>
  <child link="UR_Shoulder_2v2_1"/>
  <axis xyz="-2.05230925903742e-14 -0.01878333217670006 0.9998235776537472"/>
  <limit upper="3.14159" lower="-3.14159" effort="100" velocity="100"/>
</joint>

<joint name="Revolute55" type="revolute">
  <origin xyz="0.032900000000002316 0.0021600832003204617 -0.11497971143018008" rpy="0 0 0"/>
  <parent link="UR_Shoulder_2v2_1"/>
  <child link="UR_Shoulder_3v2_1"/>
  <axis xyz="0.9999999999999998 -3.3977472609707566e-15 2.0426723347466497e-14"/>
  <limit upper="3.14159" lower="-3.14159" effort="100" velocity="100"/>
</joint>

<joint name="Revolute88" type="revolute">
  <origin xyz="-0.032900000000000734 0.1280774002974469 0.0024061448518338385" rpy="0 0 0"/>
  <parent link="UR_Shoulder_3v2_1"/>
  <child link="UR_Arm_1v2_1"/>
  <axis xyz="-2.7155358698649516e-15 -0.9998235776537535 -0.01878333217670008"/>
  <limit upper="3.14159" lower="-3.14159" effort="100" velocity="100"/>
</joint>

<joint name="Revolute89" type="revolute">
  <origin xyz="0.03099999999999989 0.2063530222785827 0.036382416034325016" rpy="0 0 0"/>
  <parent link="UR_Arm_1v2_1"/>
  <child link="UR_Arm_2v6_1"/>
  <axis xyz="0.9999999999999994 -3.0803690570051004e-15 1.7665040818381603e-14"/>
  <limit upper="3.14159" lower="-3.14159" effort="100" velocity="100"/>
</joint>

<joint name="Revolute58" type="revolute">
  <origin xyz="-0.03099999999999903 0.12558840550246153 -0.030146349751659668" rpy="0 0 0"/>
  <parent link="UR_Arm_2v6_1"/>
  <child link="UR_Arm_3v3_1"/>
  <axis xyz="2.7611417940639986e-15 0.9998235776537469 0.018783332176698638"/>
  <limit upper="3.14159" lower="-3.14159" effort="100" velocity="100"/>
</joint>

<joint name="Revolute90" type="revolute">
  <origin xyz="-9.71445146547012e-16 -0.06562904417471904 0.03287306740650725" rpy="0 0 0"/>
  <parent link="UL_Shoulder_1v3_1"/>
  <child link="UL_Shoulder_2v3_1"/>
  <axis xyz="2.032489389041666e-14 0.018783332176700446 -0.9998235776537474"/>
  <limit upper="3.14159" lower="-3.14159" effort="100" velocity="100"/>
</joint>

<joint name="Revolute91" type="revolute">
  <origin xyz="0.03729999999999761 -0.0021600832003205173 0.11497971143018193" rpy="0 0 0"/>
  <parent link="UL_Shoulder_2v3_1"/>
  <child link="UL_Shoulder_3v3_1"/>
  <axis xyz="-1.0 3.7412631039392414e-15 -2.02925870096358e-14"/>
  <limit upper="3.14159" lower="-3.14159" effort="100" velocity="100"/>
</joint>

<joint name="Revolute97" type="revolute">
  <origin xyz="0.036999999475479745 0.14377213278323475 0.0028280186039150446" rpy="0 0 0"/>
  <parent link="UR_Arm_3v3_1"/>
  <child link="UR_Wrist_1v6_1"/>
  <axis xyz="-0.999999999999997 2.143404853286814e-15 2.7487445739598234e-14"/>
  <limit upper="3.14159" lower="-3.14159" effort="100" velocity="100"/>
</joint>

<joint name="Revolute99" type="revolute">
  <origin xyz="-0.03700000000000142 0.04858072025831994 -0.02905019137945085" rpy="0 0 0"/>
  <parent link="UR_Wrist_1v6_1"/>
  <child link="UR_Wrist_2v3_1"/>
  <axis xyz="2.5667004481387123e-14 -0.019666798232188747 0.9998065898198966"/>
  <limit upper="3.14159" lower="-3.14159" effort="100" velocity="100"/>
</joint>

<joint name="Rigid71" type="fixed">
  <origin xyz="-0.017677669529662474 0.037254823621300504 0.013057539030648296" rpy="0 0 0"/>
  <parent link="UR_Wrist_2v3_1"/>
  <child link="UR_Hand_1v3_1"/>
</joint>

<joint name="Revolute72" type="revolute">
  <origin xyz="0.030000000000356117 -0.3794330477195974 -0.007128274561058218" rpy="0 0 0"/>
  <parent link="U_Body_1v21_1"/>
  <child link="U_Neck_1v4_1"/>
  <axis xyz="-2.7602297695390973e-15 -0.9998235776537489 -0.018783332176704155"/>
  <limit upper="3.14159" lower="-3.14159" effort="100" velocity="100"/>
</joint>

<joint name="Revolute74" type="revolute">
  <origin xyz="0.11000000000059164 0.8109000000000003 0.28980049999999435" rpy="0 0 0"/>
  <parent link="L_Pelvisv15_1"/>
  <child link="LL_Hip_1v5_1"/>
  <axis xyz="-7.546779104011158e-15 -1.0000000000000007 5.797004494381731e-15"/>
  <limit upper="3.14159" lower="-3.14159" effort="100" velocity="100"/>
</joint>

<joint name="Revolute76" type="revolute">
  <origin xyz="-0.05199999999999958 0.0850000000000003 -1.1102230246251565e-16" rpy="0 0 0"/>
  <parent link="LL_Hip_1v5_1"/>
  <child link="LL_Hip_2v4_1"/>
  <axis xyz="-1.0 7.0862724607023404e-15 8.058026186910835e-15"/>
  <limit upper="3.14159" lower="-3.14159" effort="100" velocity="100"/>
</joint>

<joint name="Revolute77" type="revolute">
  <origin xyz="0.05199999999999972 -5.551115123125783e-16 -0.04400000000000043" rpy="0 0 0"/>
  <parent link="LL_Hip_2v4_1"/>
  <child link="LL_Hip_3v5_1"/>
  <axis xyz="8.030270611295247e-15 5.79006560047776e-15 1.0"/>
  <limit upper="3.14159" lower="-3.14159" effort="100" velocity="100"/>
</joint>

<joint name="Revolute104" type="revolute">
  <origin xyz="-1.204713983096739e-05 0.34999999979266383 -5.079270337660091e-15" rpy="0 0 0"/>
  <parent link="LL_Hip_3v5_1"/>
  <child link="LL_Knee_1v4_1"/>
  <axis xyz="6.655151913143603e-15 -1.482417119359301e-14 0.9999999999999998"/>
  <limit upper="3.14159" lower="-3.14159" effort="100" velocity="100"/>
</joint>

<joint name="Revolute79" type="revolute">
  <origin xyz="3.6637359812630166e-15 0.3499999999999992 6.494804694057166e-15" rpy="0 0 0"/>
  <parent link="LL_Knee_1v4_1"/>
  <child link="LL_Ankle_1v4_1"/>
  <axis xyz="6.6551519131435955e-15 -1.4824171193592992e-14 0.9999999999999984"/>
  <limit upper="3.14159" lower="-3.14159" effort="100" velocity="100"/>
</joint>

<joint name="Revolute105" type="revolute">
  <origin xyz="-0.05549999999999965 6.661338147750939e-16 0.04400000000000051" rpy="0 0 0"/>
  <parent link="LL_Ankle_1v4_1"/>
  <child link="LL_Ankle_2v7_1"/>
  <axis xyz="-1.0 1.086147058441e-14 6.682907488759382e-15"/>
  <limit upper="3.14159" lower="-3.14159" effort="100" velocity="100"/>
</joint>

<joint name="Revolute100" type="revolute">
  <origin xyz="0.11000000000058999 0.8108999999999992 0.08480049999999428" rpy="0 0 0"/>
  <parent link="L_Pelvisv15_1"/>
  <child link="LR_Hip_1v2_1"/>
  <axis xyz="-8.753459365229917e-15 -1.0000000000000007 5.797004494381741e-15"/>
  <limit upper="3.14159" lower="-3.14159" effort="100" velocity="100"/>
</joint>

<joint name="Revolute101" type="revolute">
  <origin xyz="-0.05199999999999929 0.08500000000000041 -1.3877787807814457e-16" rpy="0 0 0"/>
  <parent link="LR_Hip_1v2_1"/>
  <child link="LR_Hip_2v3_1"/>
  <axis xyz="-1.0 9.658055218388878e-15 8.058026186910817e-15"/>
  <limit upper="3.14159" lower="-3.14159" effort="100" velocity="100"/>
</joint>

<joint name="Revolute83" type="revolute">
  <origin xyz="0.05200000000000037 -1.1102230246251565e-16 0.043999999999999595" rpy="0 0 0"/>
  <parent link="LR_Hip_2v3_1"/>
  <child link="LR_Hip_3v5_1"/>
  <axis xyz="-8.030270611295248e-15 -5.912530280392494e-15 -1.0"/>
  <limit upper="3.14159" lower="-3.14159" effort="100" velocity="100"/>
</joint>

<joint name="Revolute102" type="revolute">
  <origin xyz="-1.2649568694081403e-05 0.34999999979266283 -1.915134717478395e-15" rpy="0 0 0"/>
  <parent link="LR_Hip_3v5_1"/>
  <child link="LR_Knee_1v6_1"/>
  <axis xyz="-7.969038271337877e-15 -5.7232163070896695e-15 -1.0"/>
  <limit upper="3.14159" lower="-3.14159" effort="100" velocity="100"/>
</joint>

<joint name="Revolute103" type="revolute">
  <origin xyz="3.372302437298913e-15 0.3499999999999963 -6.2727600891321345e-15" rpy="0 0 0"/>
  <parent link="LR_Knee_1v6_1"/>
  <child link="LR_Ankle_1v2_1"/>
  <axis xyz="8.35761632995666e-15 6.652281957493676e-15 0.9999999999999962"/>
  <limit upper="3.14159" lower="-3.14159" effort="100" velocity="100"/>
</joint>

<joint name="Revolute106" type="revolute">
  <origin xyz="-0.055500000000000285 2.220446049250313e-16 -0.04399999999999972" rpy="0 0 0"/>
  <parent link="LR_Ankle_1v2_1"/>
  <child link="LR_Ankle_2v3_1"/>
  <axis xyz="-1.0 9.569493538878896e-15 8.385371905572258e-15"/>
  <limit upper="3.14159" lower="-3.14159" effort="100" velocity="100"/>
</joint>

<joint name="Revolute107" type="revolute">
  <origin xyz="-1.1102230246251565e-15 -0.028199523342105376 0.036976842527156134" rpy="0 0 0"/>
  <parent link="U_Neck_1v4_1"/>
  <child link="U_Neck_2_simv5_1"/>
  <axis xyz="1.905207805926619e-14 0.018783332176703096 -0.9998235776537487"/>
  <limit upper="3.14159" lower="-3.14159" effort="100" velocity="100"/>
</joint>

<joint name="Rigid111" type="fixed">
  <origin xyz="0.05720000000000043 0.07999999999999963 -9.159339953157541e-16" rpy="0 0 0"/>
  <parent link="LR_Ankle_2v3_1"/>
  <child link="LR_Footv2_2"/>
</joint>

<joint name="Rigid113" type="fixed">
  <origin xyz="0.05720000000000827 0.07999999999999963 -2.220446049250313e-16" rpy="0 0 0"/>
  <parent link="LL_Ankle_2v7_1"/>
  <child link="LL_Footv1_1"/>
</joint>

<joint name="Revolute114" type="revolute">
  <origin xyz="-0.0373000000000015 0.12807740029744474 0.002406144851834713" rpy="0 0 0"/>
  <parent link="UL_Shoulder_3v3_1"/>
  <child link="UL_Arm_1v1_1"/>
  <axis xyz="3.0730666689294478e-15 -0.9998235776537486 -0.01878333217670054"/>
  <limit upper="3.14159" lower="-3.14159" effort="100" velocity="100"/>
</joint>

<joint name="Revolute116" type="revolute">
  <origin xyz="-0.029699999999999227 0.10156705141127464 0.07978335708416867" rpy="0 0 0"/>
  <parent link="UL_Arm_2v1_1"/>
  <child link="UL_Arm_3v1_1"/>
  <axis xyz="-5.7220983182086546e-15 -0.9165284694878766 -0.3999694546064873"/>
  <limit upper="3.14159" lower="-3.14159" effort="100" velocity="100"/>
</joint>

<joint name="Revolute118" type="revolute">
  <origin xyz="0.03699999947547994 0.13179679391235588 0.05751560757241336" rpy="0 0 0"/>
  <parent link="UL_Arm_3v1_1"/>
  <child link="UL_Wrist_1v1_1"/>
  <axis xyz="0.9999999999999998 -1.934870727800474e-14 3.012787411269809e-14"/>
  <limit upper="3.14159" lower="-3.14159" effort="100" velocity="100"/>
</joint>

<joint name="Revolute119" type="revolute">
  <origin xyz="-0.02950000000001085 0.05882039413732809 -0.013281989065275335" rpy="0 0 0"/>
  <parent link="UL_Wrist_1v1_1"/>
  <child link="UL_Wrist_2v1_1"/>
  <axis xyz="3.6365077198379e-14 0.415100422380136 -0.9097755983427095"/>
  <limit upper="3.14159" lower="-3.14159" effort="100" velocity="100"/>
</joint>

<joint name="Revolute120" type="revolute">
  <origin xyz="0.030999999999999195 0.2075739388700688 -0.02860611651316991" rpy="0 0 0"/>
  <parent link="UL_Arm_1v1_1"/>
  <child link="UL_Arm_2v1_1"/>
  <axis xyz="-1.0 -3.056184286371969e-15 6.0440899793445875e-15"/>
  <limit upper="3.14159" lower="-3.14159" effort="100" velocity="100"/>
</joint>

</robot>
